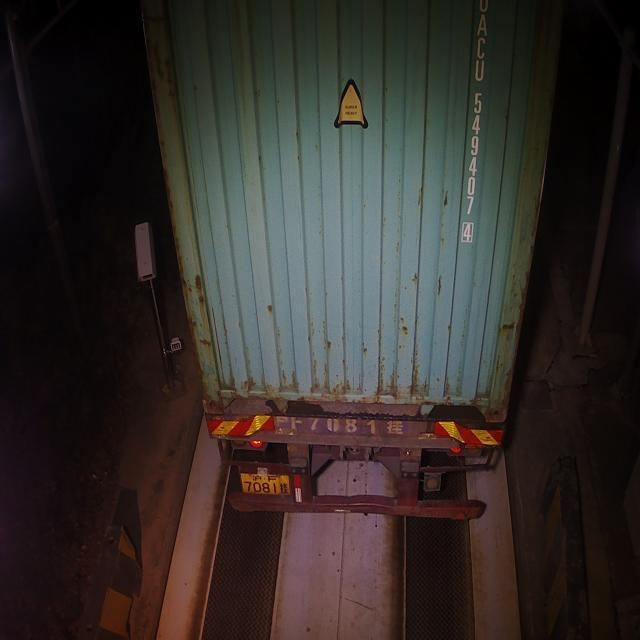container_number: (464, 0, 491, 245)
